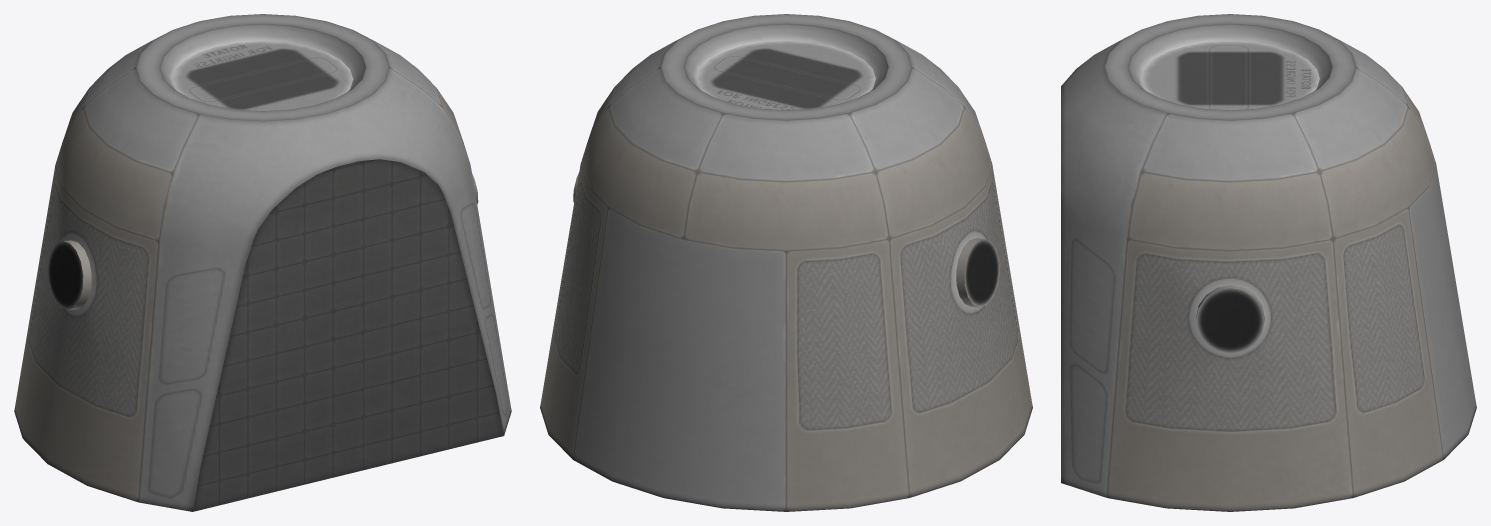
File: Tantares_Crew_1_Interior.obj
The picture shows the model from 3 angles, left to right: view 1: azimuth 30°, elevation 25°; view 2: azimuth 150°, elevation 25°; view 3: azimuth 270°, elevation 25°; orthographic projection.
Parts seen in each view (by area): view 1: Tantares_Crew_1_Interior, Tantares_Crew_1_Interior_Windows; view 2: Tantares_Crew_1_Interior, Tantares_Crew_1_Interior_Windows; view 3: Tantares_Crew_1_Interior, Tantares_Crew_1_Interior_Windows.
Boxes of the visible parts, x1=… form: Tantares_Crew_1_Interior: x1=14, y1=14, x2=511, y2=511; Tantares_Crew_1_Interior_Windows: x1=47, y1=241, x2=83, y2=309; Tantares_Crew_1_Interior: x1=540, y1=14, x2=1032, y2=511; Tantares_Crew_1_Interior_Windows: x1=964, y1=239, x2=999, y2=307; Tantares_Crew_1_Interior: x1=1061, y1=14, x2=1476, y2=511; Tantares_Crew_1_Interior_Windows: x1=1196, y1=288, x2=1264, y2=353.
Bounding box in the file's own units: 1.21 × 0.9213 × 1.02.
